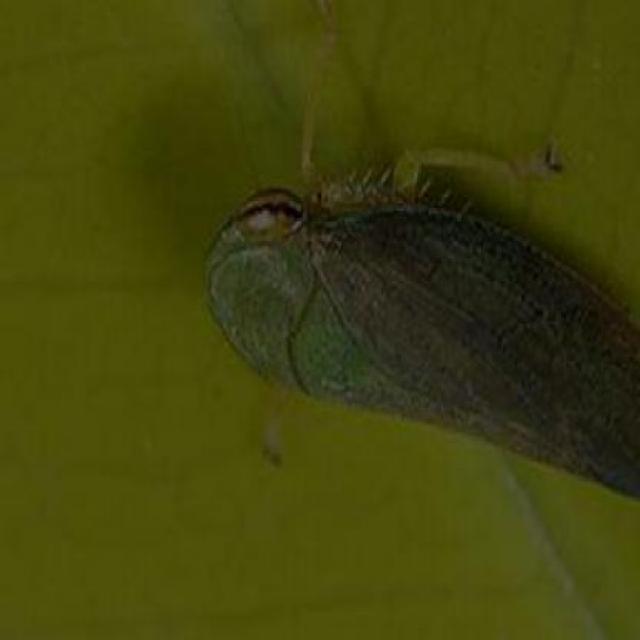green-leafhopper: (204, 161, 640, 489)
